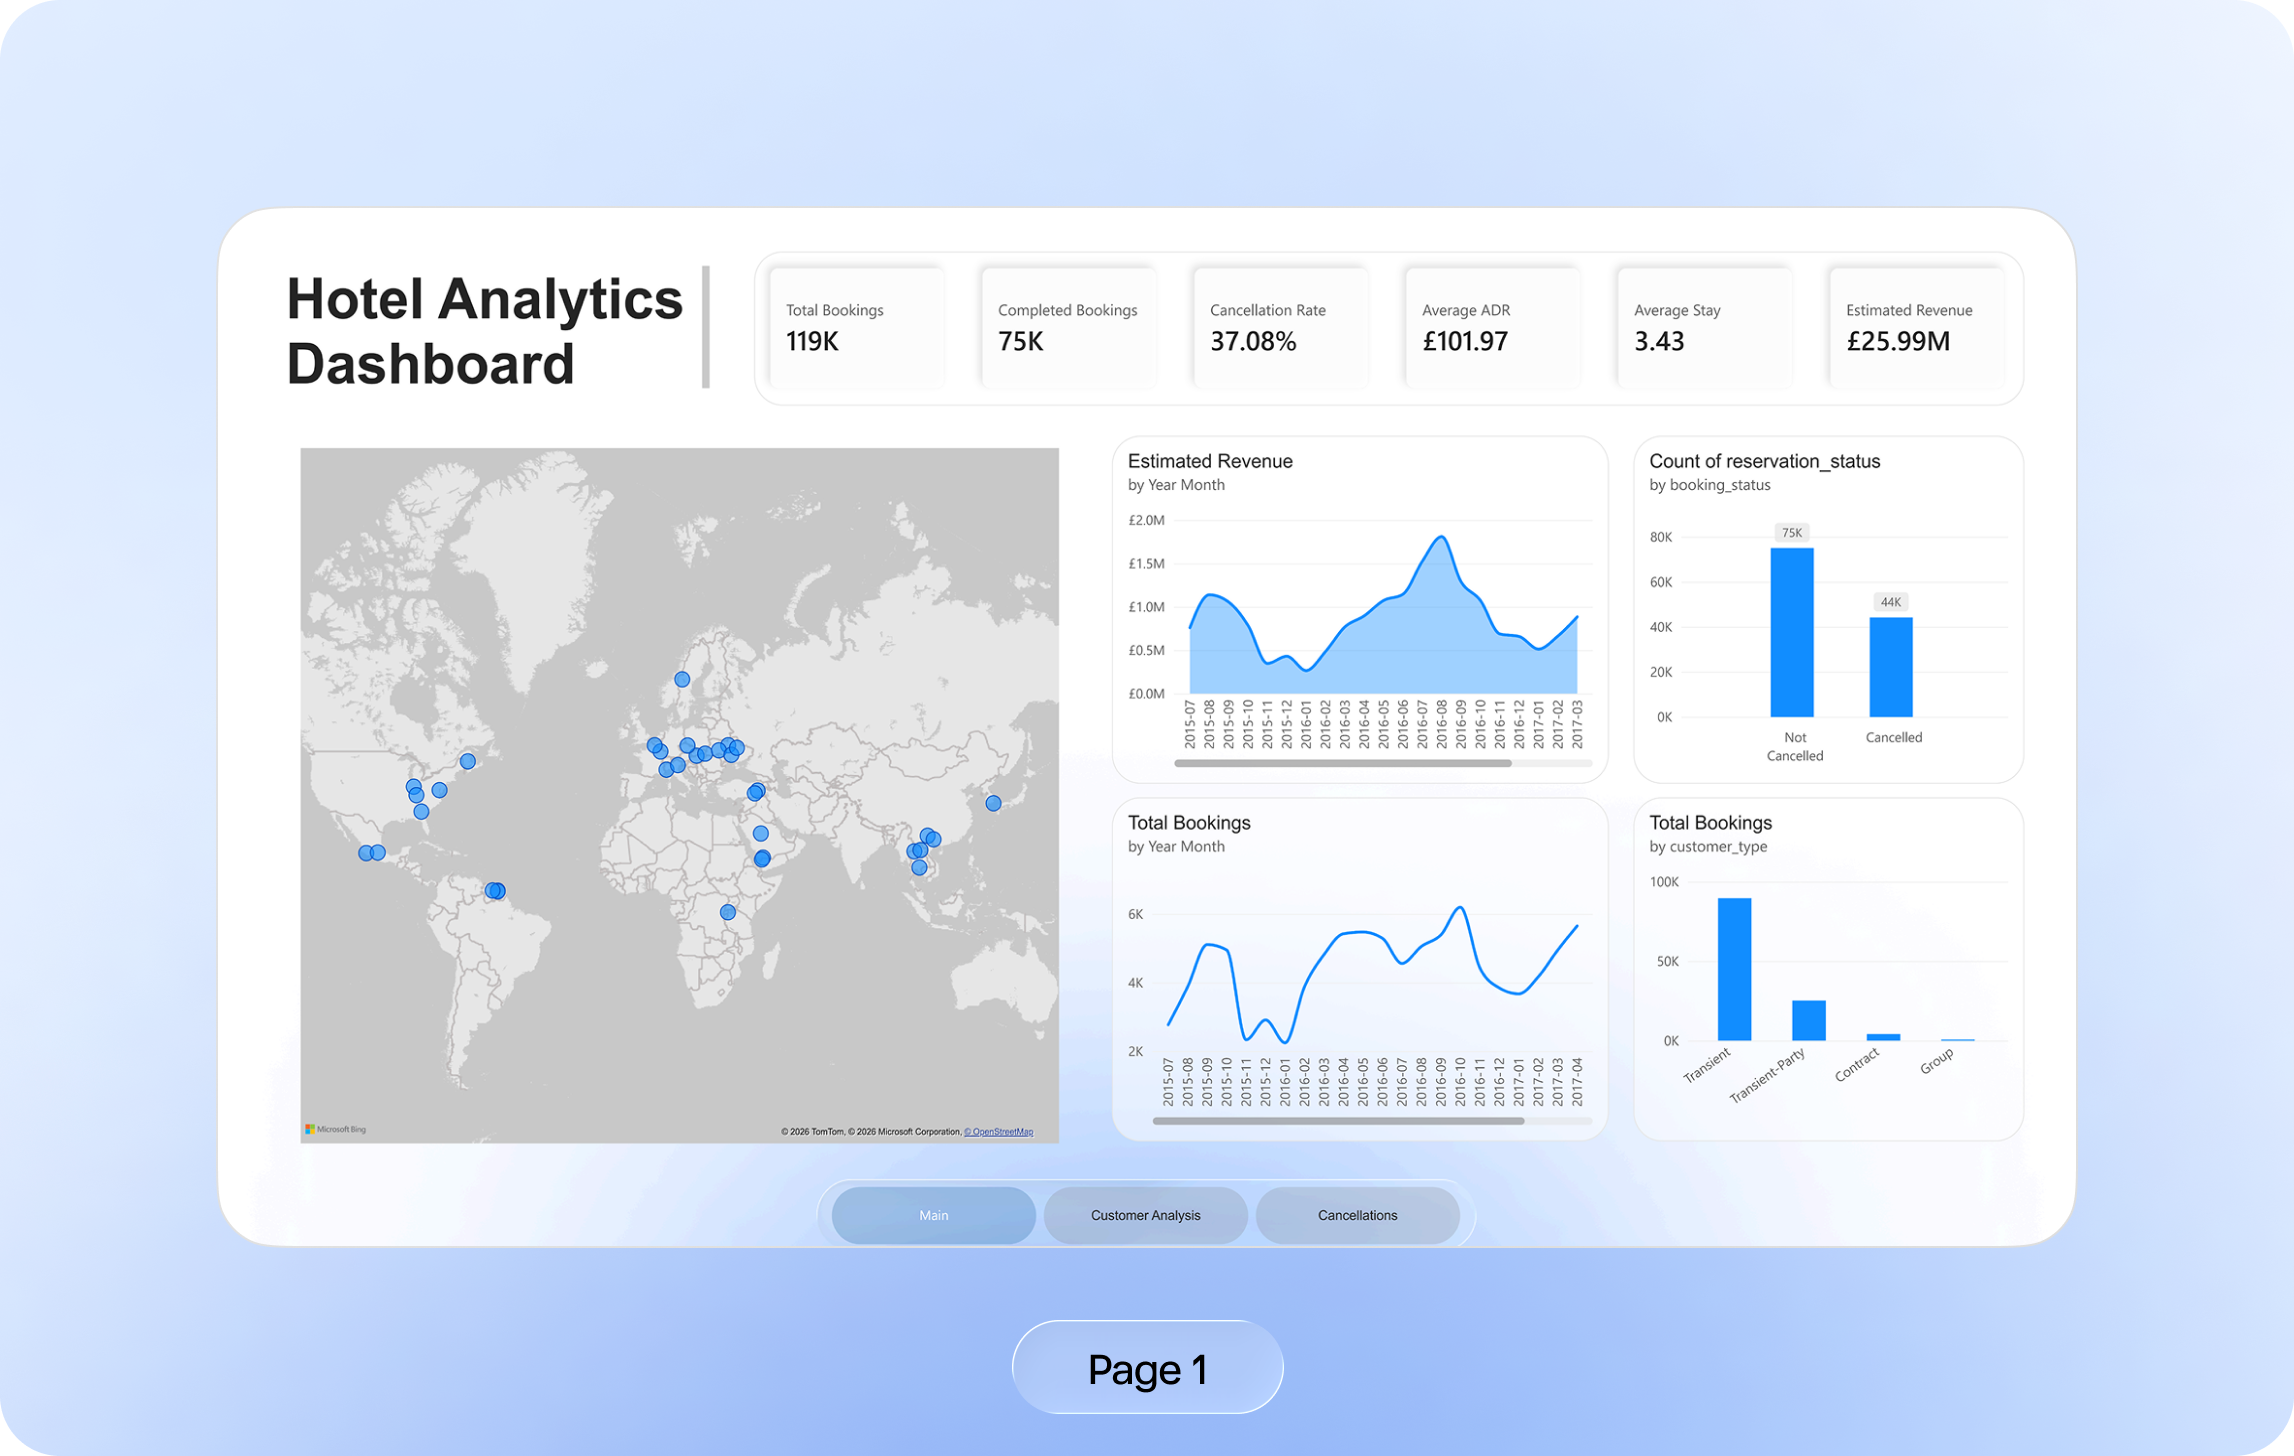

The page's visual inventory and layout, read from the dashboard file:
{"tool":"powerbi","page":{"name":"Main","canvas":[1920,1080],"ordinal":0},"visuals":[{"type":"cardVisual","fields":{"Data":["public vw_hotel_analysis.Total Bookings","public vw_hotel_analysis.Completed Bookings","public vw_hotel_analysis.Cancellation Rate","public vw_hotel_analysis.Average ADR","public vw_hotel_analysis.Average Stay","public vw_hotel_analysis.Estimated Revenue"]},"box":[545,23.3,1341.7,158.3],"z":0},{"type":"textbox","box":[50,38.3,448.3,130],"z":1000},{"type":"lineChart","fields":{"Category":["Calendar.Year Month"],"Y":["public vw_hotel_analysis.Total Bookings"]},"box":[923.3,585.8,525,355],"z":2000},{"type":"areaChart","fields":{"Category":["Calendar.Year Month"],"Y":["public vw_hotel_analysis.Estimated Revenue"]},"box":[923.3,212.5,525,359.2],"z":3000},{"type":"lineClusteredColumnComboChart","fields":{"Category":["public vw_hotel_analysis.booking_status"],"Y":["CountNonNull(public vw_hotel_analysis.reservation_status)"]},"box":[1474.2,212.5,412.5,359.2],"z":4000},{"type":"lineClusteredColumnComboChart","fields":{"Category":["public vw_hotel_analysis.customer_type"],"Y":["public vw_hotel_analysis.Total Bookings"]},"box":[1474.2,585.8,412.5,355],"z":5000},{"type":"map","fields":{"Category":["public vw_hotel_analysis.country"]},"box":[49.6,212.5,832.9,746.6],"z":6000},{"type":"pageNavigator","box":[627,988,666,59],"z":6001}]}

Visuals, with their boxes on the page's 1920x1080 design canvas (x1, y1, x2, y2). These are canvas units, not pixel positions in the 2294x1456 screenshot, which may show the page scaled, cropped or inside an application window:
cardVisual - public vw_hotel_analysis.Total Bookings x public vw_hotel_analysis.Completed Bookings: box=[545, 23, 1887, 182]
textbox: box=[50, 38, 498, 168]
lineChart - Calendar.Year Month x public vw_hotel_analysis.Total Bookings: box=[923, 586, 1448, 941]
areaChart - Calendar.Year Month x public vw_hotel_analysis.Estimated Revenue: box=[923, 212, 1448, 572]
lineClusteredColumnComboChart - public vw_hotel_analysis.booking_status x CountNonNull(public vw_hotel_analysis.reservation_status): box=[1474, 212, 1887, 572]
lineClusteredColumnComboChart - public vw_hotel_analysis.customer_type x public vw_hotel_analysis.Total Bookings: box=[1474, 586, 1887, 941]
map - public vw_hotel_analysis.country: box=[50, 212, 882, 959]
pageNavigator: box=[627, 988, 1293, 1047]
